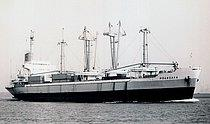Ship: (6, 61, 205, 107)
